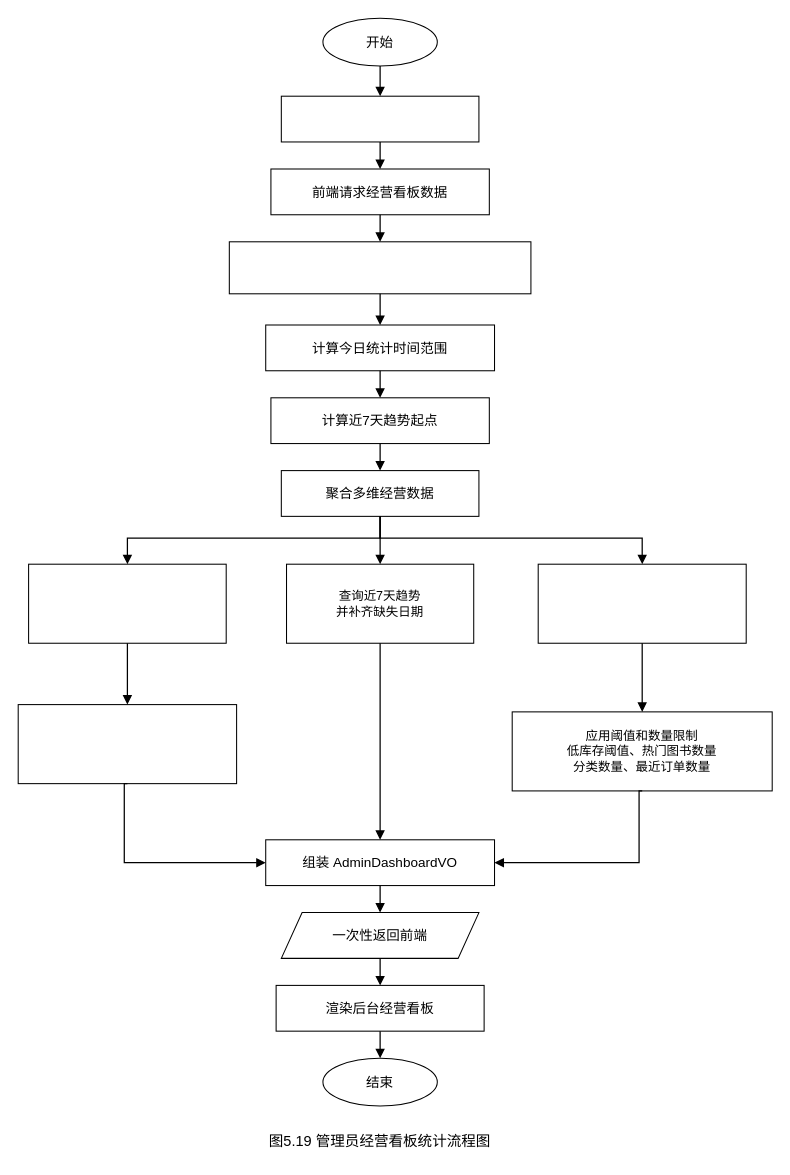
The diagram is 790 pixels wide and 1175 high, and some of its shapes have lost their labels. Here are the shapes that lost their labels. From the top down, the box of each, then its label:
(280, 95, 479, 142): 管理员进入后台首页
(228, 241, 531, 294): 调用 DashboardServiceImpl.getAdminDashboard
(28, 563, 226, 643): 查询经营概况 图书总数、订单总数 今日订单、今日营收
(537, 563, 746, 643): 查询订单状态分布 分类统计和热销图书
(17, 704, 237, 784): 查询待发货订单 低库存图书和最近订单
